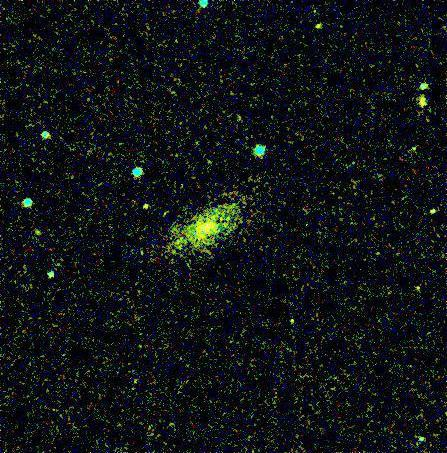star: (132, 191, 162, 221)
